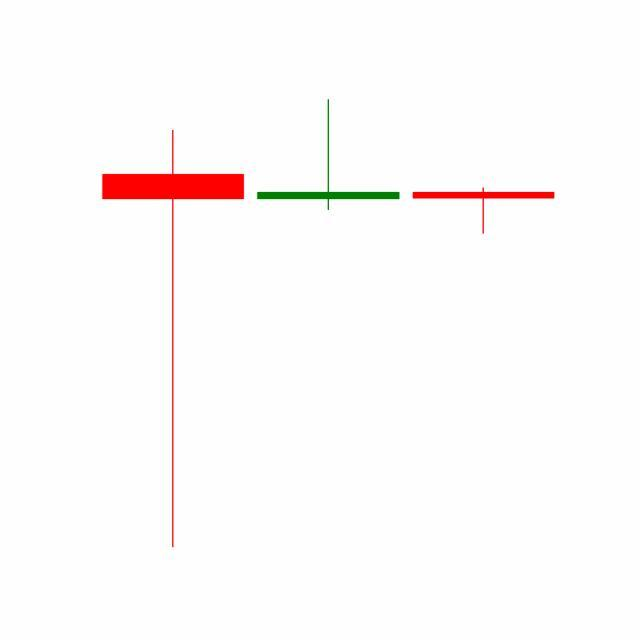Gravestone Doji: (250, 98, 407, 212)
